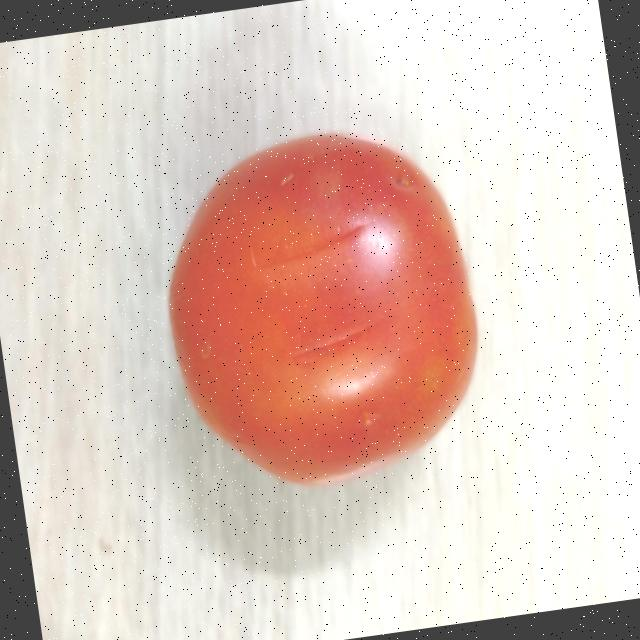Tomato: (144, 110, 498, 500)
